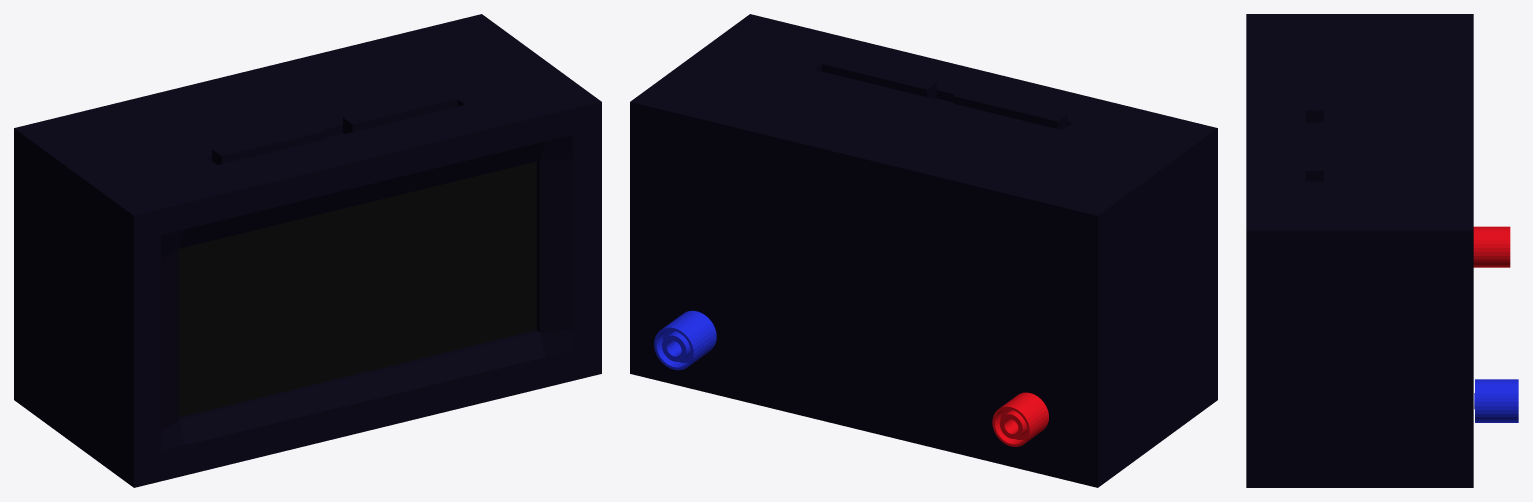
File: voltmeter.glb
The picture shows the model from 3 angles, left to right: view 1: azimuth 30°, elevation 25°; view 2: azimuth 150°, elevation 25°; view 3: azimuth 270°, elevation 25°; orthographic projection. The views are drawn at different scales.
Visible parts, largest first — view 1: Cube; view 2: Cube; view 3: Cube.
Part boxes in pixels (x1,y1,x2,y2): Cube: [14, 14, 601, 487]; Cube: [630, 14, 1217, 487]; Cube: [1246, 14, 1518, 487].
Bounding box in the file's own units: 90 × 51.39 × 47.89.
